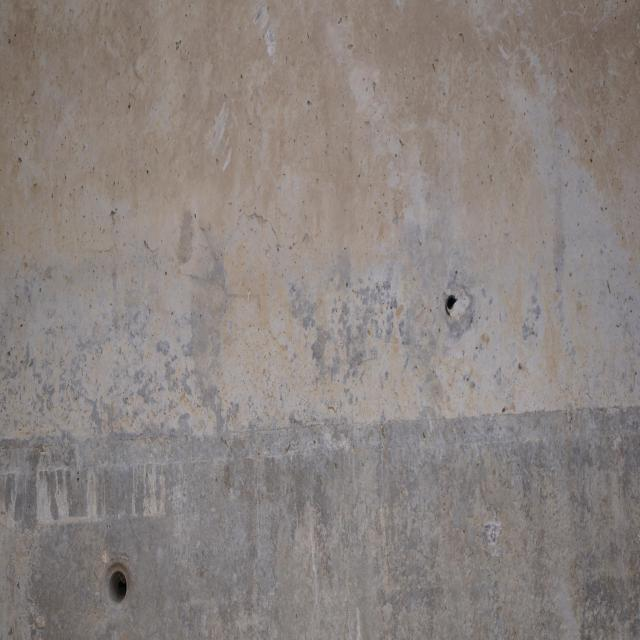diagonal crack: (236, 208, 314, 259), (142, 238, 160, 254)
vertical crack: (262, 351, 278, 417)
